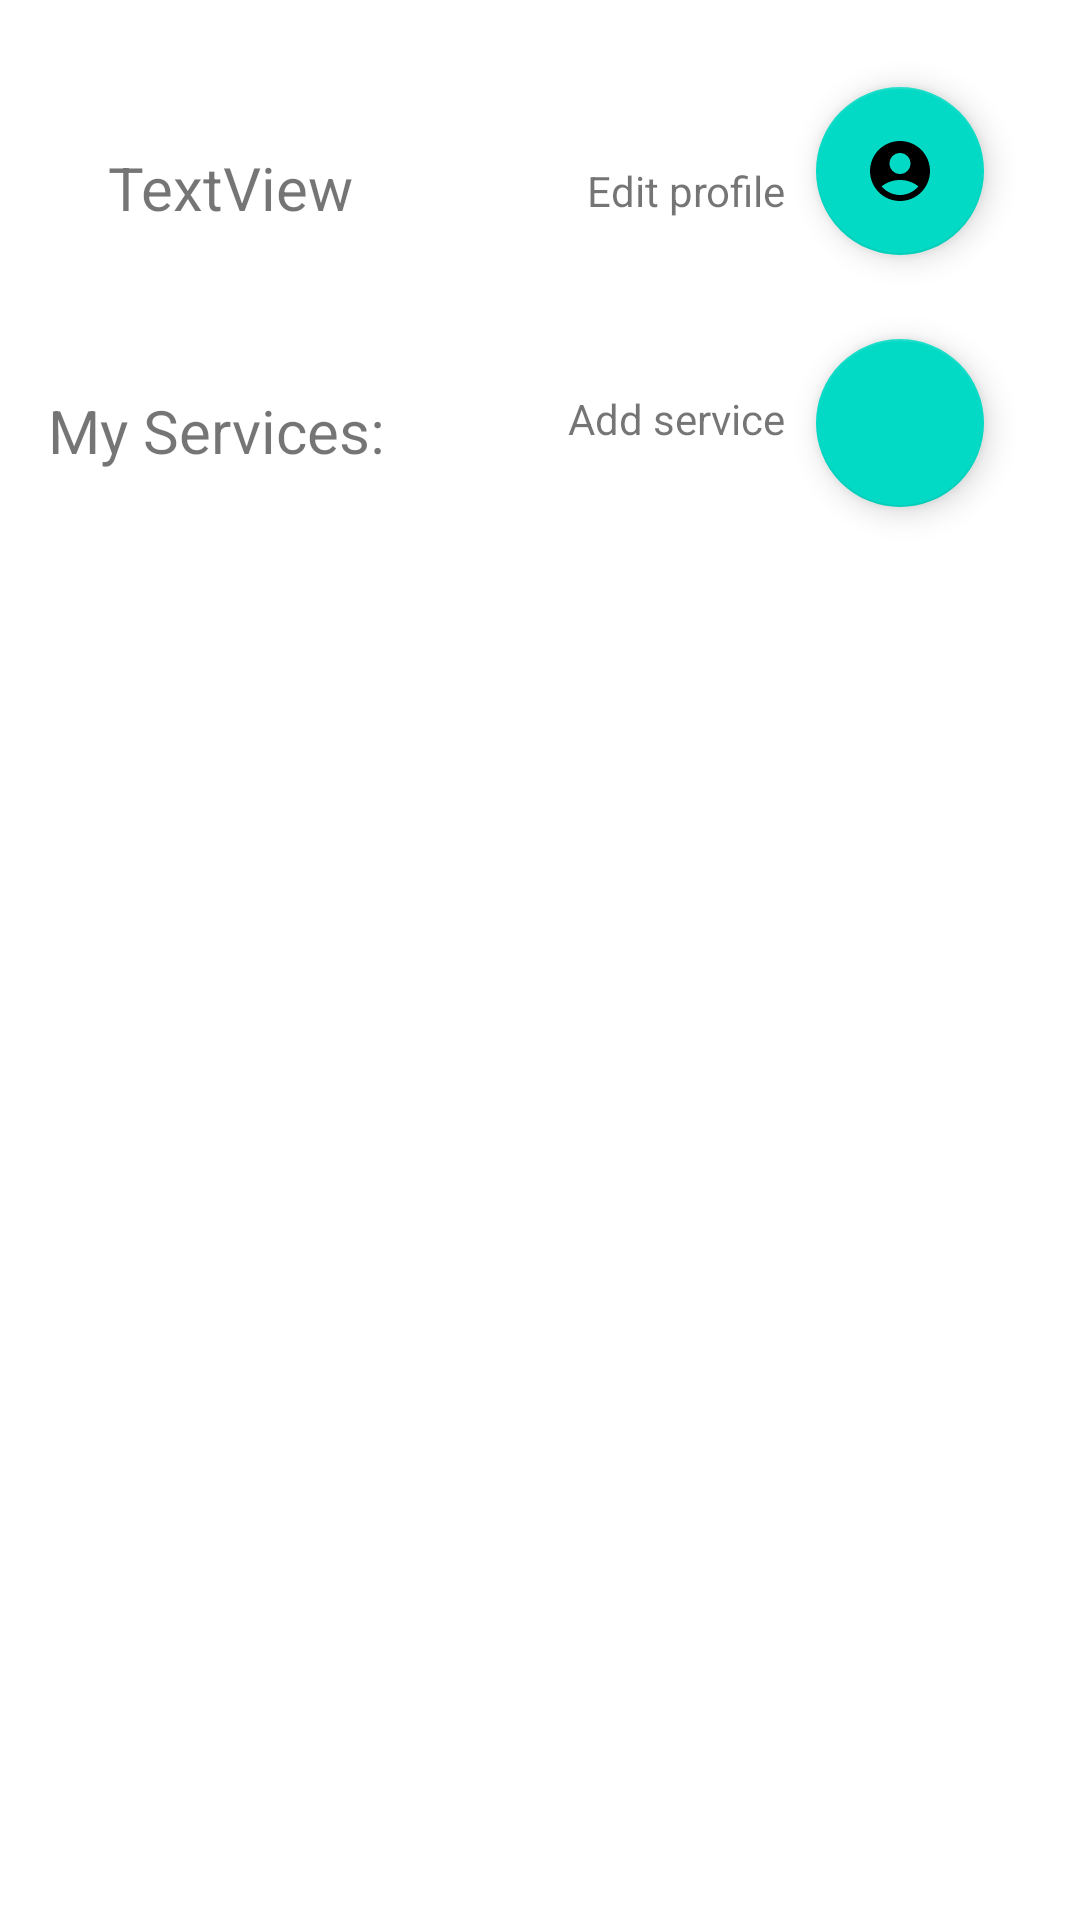

Point at icon controls on the screen. Image size 1080px x 1920px, points as [x,y].
account circle: [900,171]
